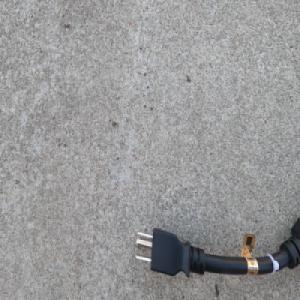Wire: (134, 216, 300, 280)
